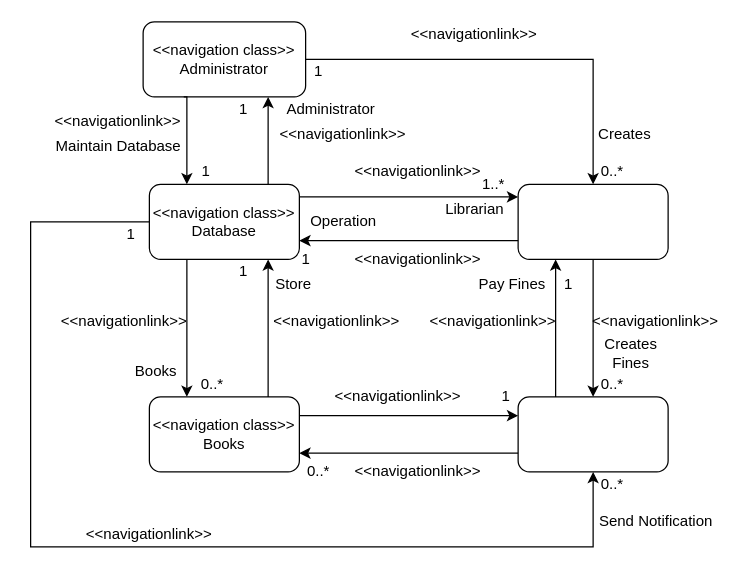
Image size: 746x579. Some labels were removed from this diagram. Here are the shapes that lost their labels. From the top down, the centre of each, then its label:
At point (592, 221): "<<navigation class>> Librarian".
At point (592, 434): "<<navigation class>> User".
